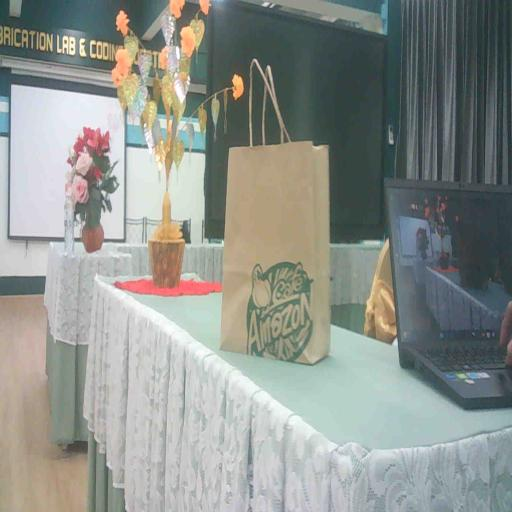bag: (217, 136, 336, 365)
